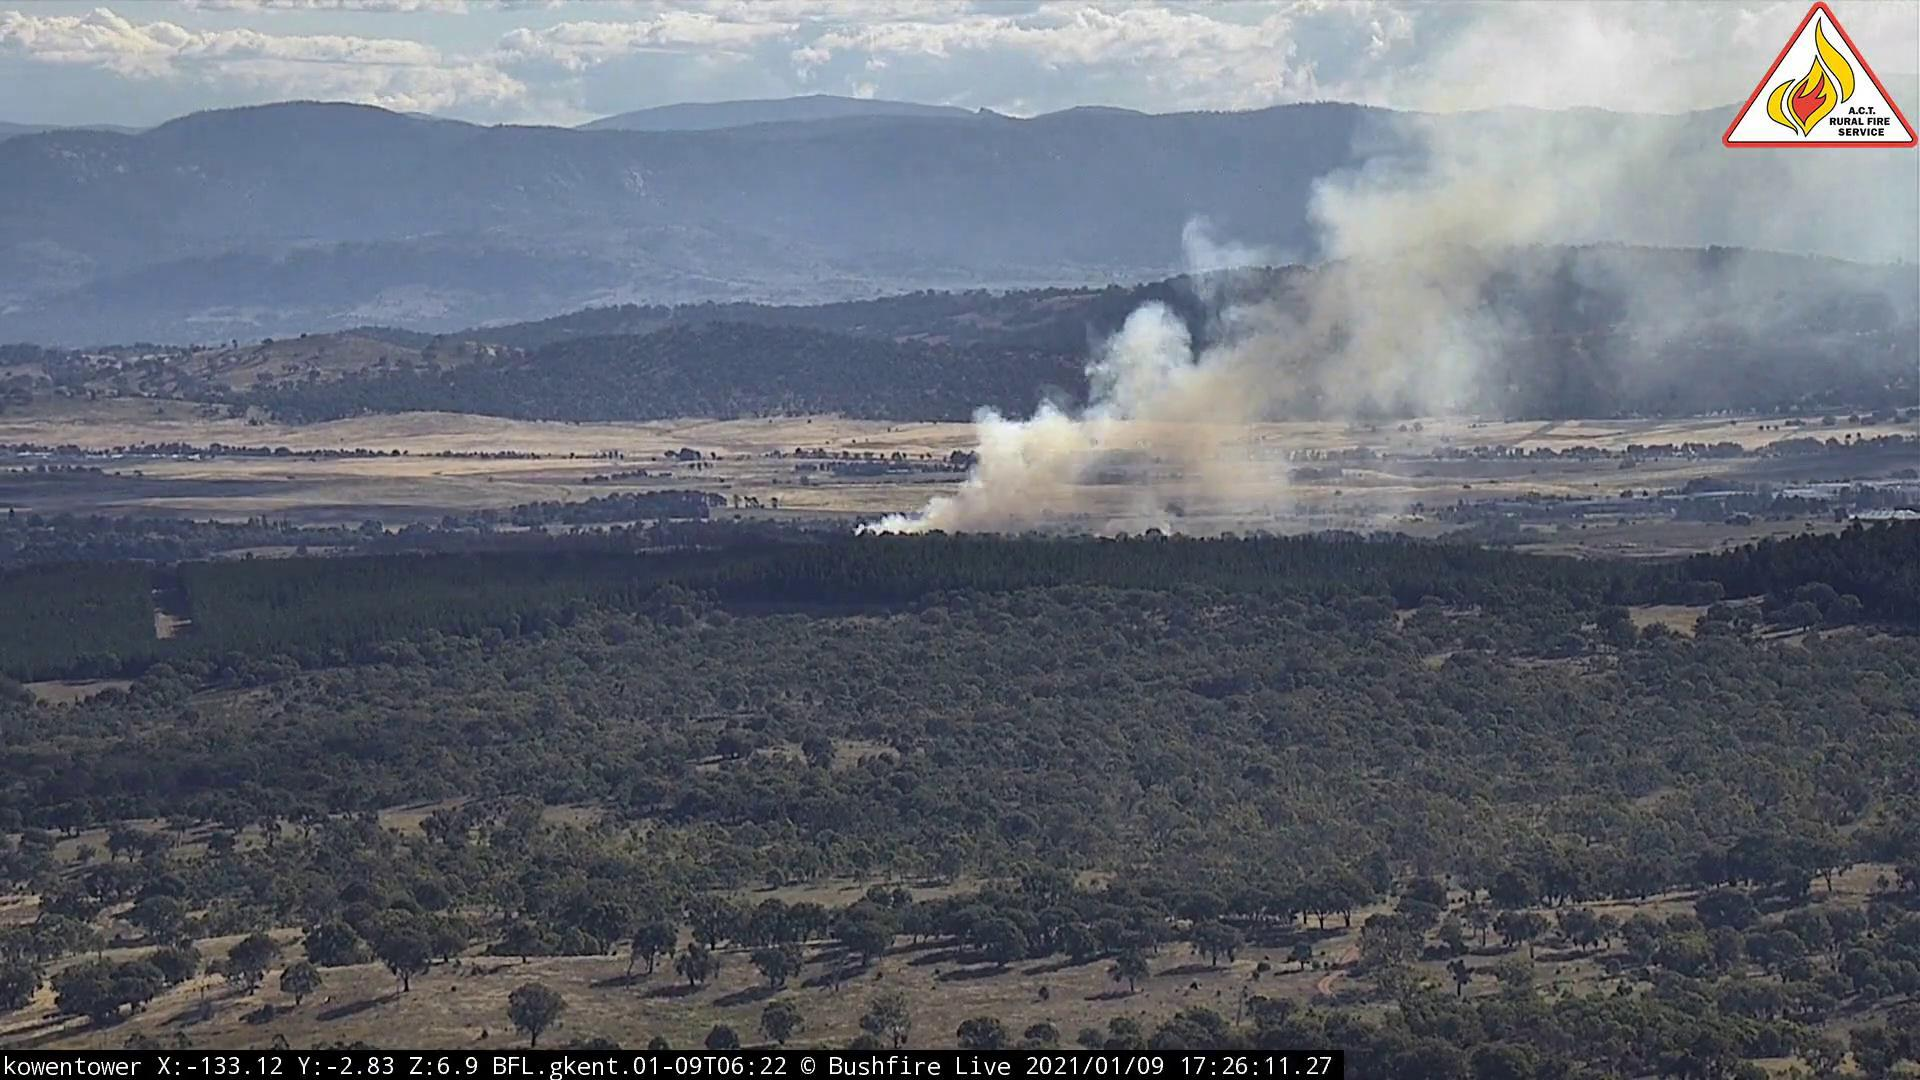instance_salient_object: (851, 49, 1717, 550)
